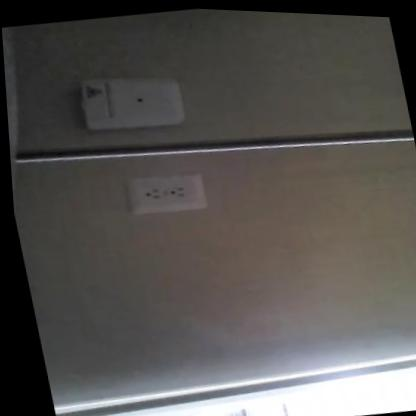OUTLET: (123, 168, 207, 218)
